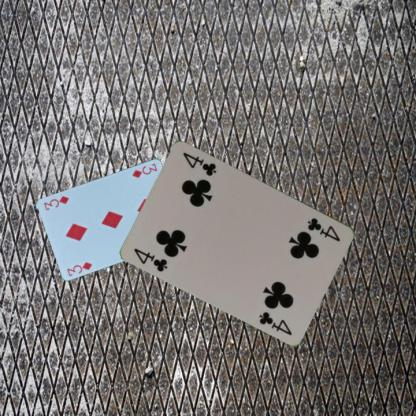3d: (64, 259, 93, 277), (130, 161, 158, 179)
4c: (305, 215, 342, 243), (132, 245, 169, 273)
